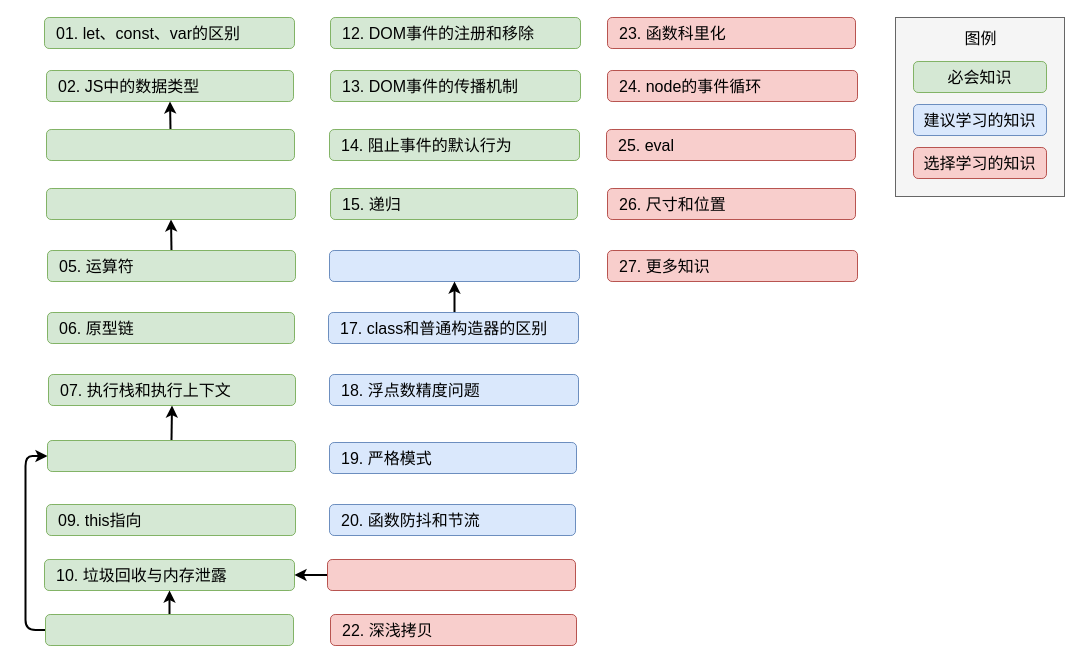
The diagram is 1082 pixels wide and 663 high, and some of its shapes have lost their labels. The shapes that lost their labels are listed below. From the top down, each one's centre as x and y in pixels, then its label:
the point at 170,144: 03. 包装类型
the point at 171,204: 04. 类型转换
the point at 454,266: 16. 属性描述符
the point at 171,456: 08. 作用域和作用域链
the point at 451,574: 21. WeakSet和WeakMap
the point at 169,630: 11. 闭包
